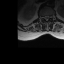CCS_normal: (46, 13, 48, 22)
LFS_normal: (50, 14, 52, 20)
LLS_normal: (47, 14, 50, 20)
RFS_stenosis: (42, 14, 44, 19)
RLS_normal: (44, 14, 46, 20)
